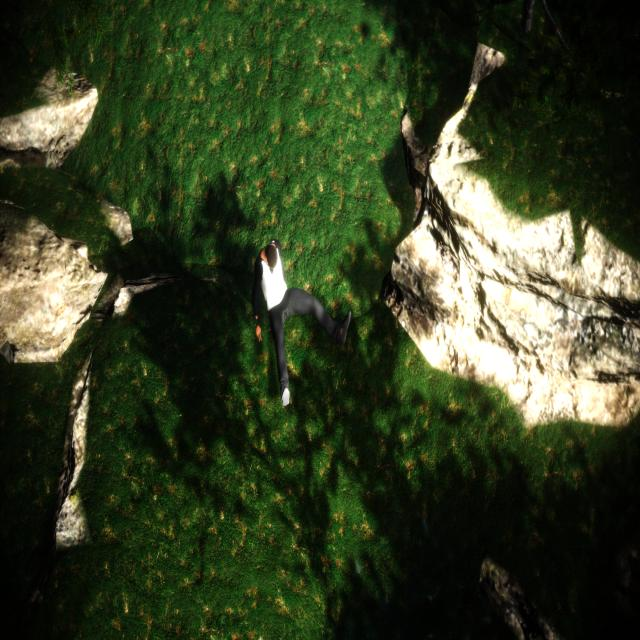Human: (244, 231, 353, 415)
